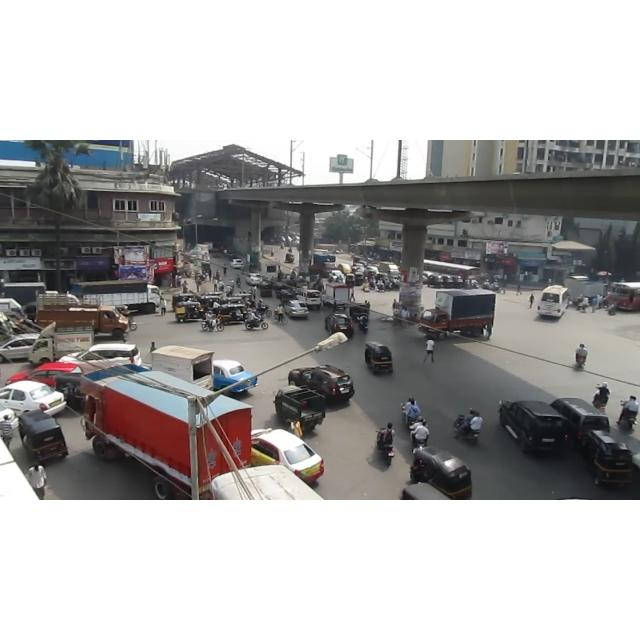auto: (407, 446, 476, 500), (585, 430, 635, 494), (18, 408, 70, 466), (363, 342, 399, 381), (218, 299, 255, 331), (173, 303, 211, 321), (260, 280, 277, 303), (283, 253, 301, 269), (353, 270, 367, 290)
truck: (80, 364, 252, 500), (419, 289, 497, 339), (35, 304, 129, 340), (71, 280, 161, 314), (28, 322, 94, 364), (274, 385, 326, 433), (322, 283, 354, 309)
